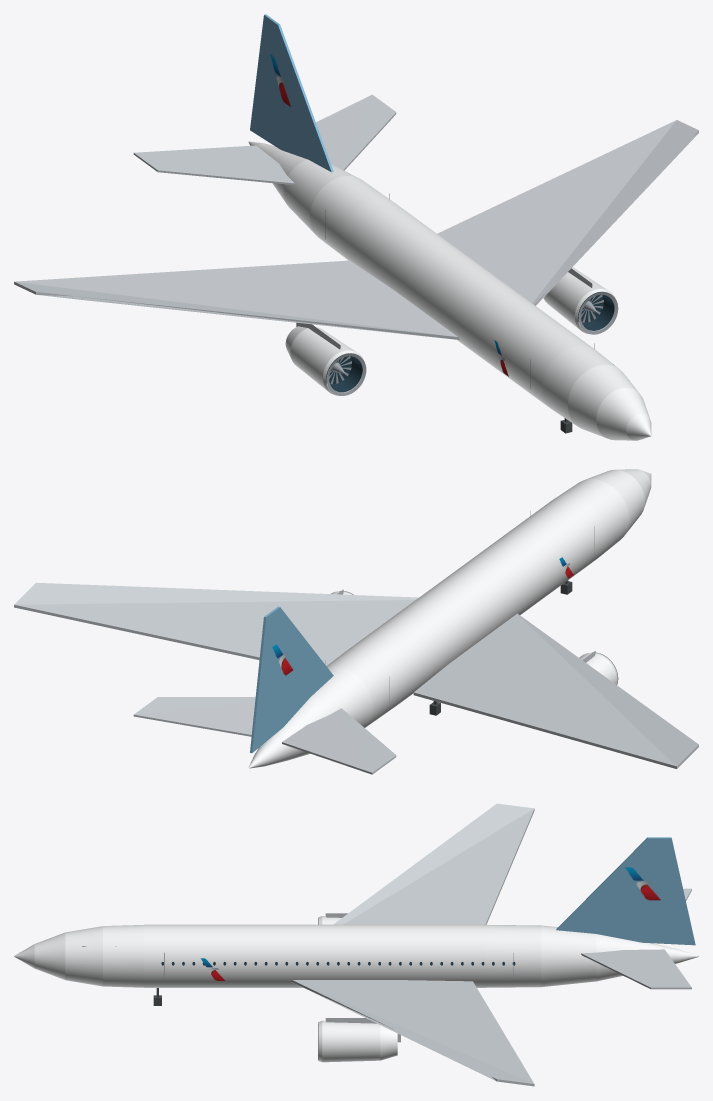
File: b787-AAL-v2.gltf
3 renders of one model, top to bottom at view 1: azimuth 30°, elevation 25°; view 2: azimuth 150°, elevation 25°; view 3: azimuth 270°, elevation 25°, orthographic. The views are drawn at different scales.
Parts seen in each view (by area): view 1: object 1; view 2: object 1; view 3: object 1.
Boxes of the visible parts, left/top/right/bottom form: object 1: left=14, top=14, right=698, bottom=440; object 1: left=14, top=469, right=698, bottom=774; object 1: left=14, top=803, right=698, bottom=1086.
Bounding box in the file's own units: 60 × 17.28 × 63.
Materials: 7 (1 with a texture image).
